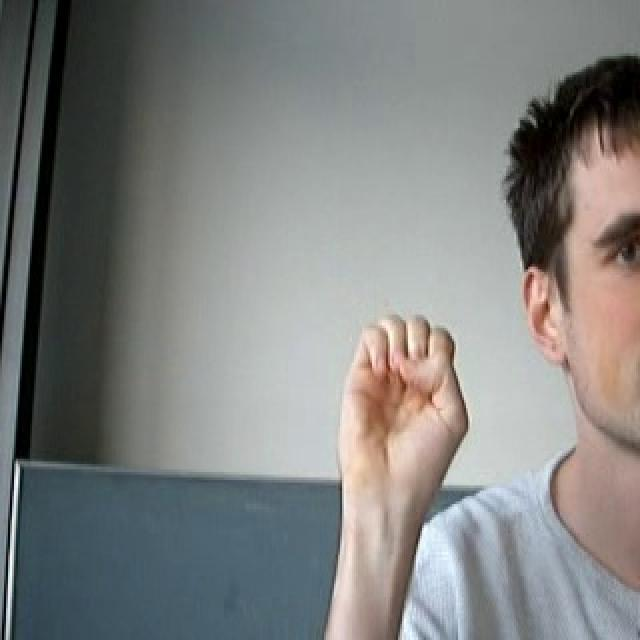E: (327, 308, 477, 543)
